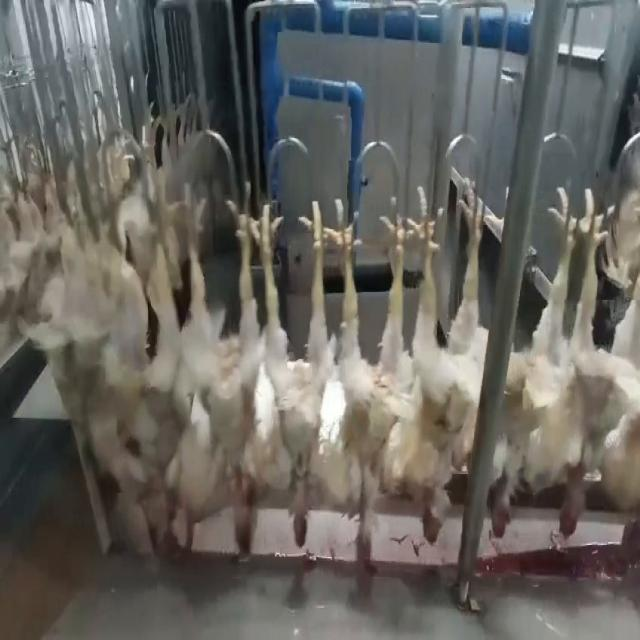chicken: (168, 180, 263, 553), (485, 189, 580, 541), (404, 171, 490, 547), (329, 178, 411, 568), (258, 183, 339, 549), (96, 207, 175, 537), (572, 185, 640, 536)
